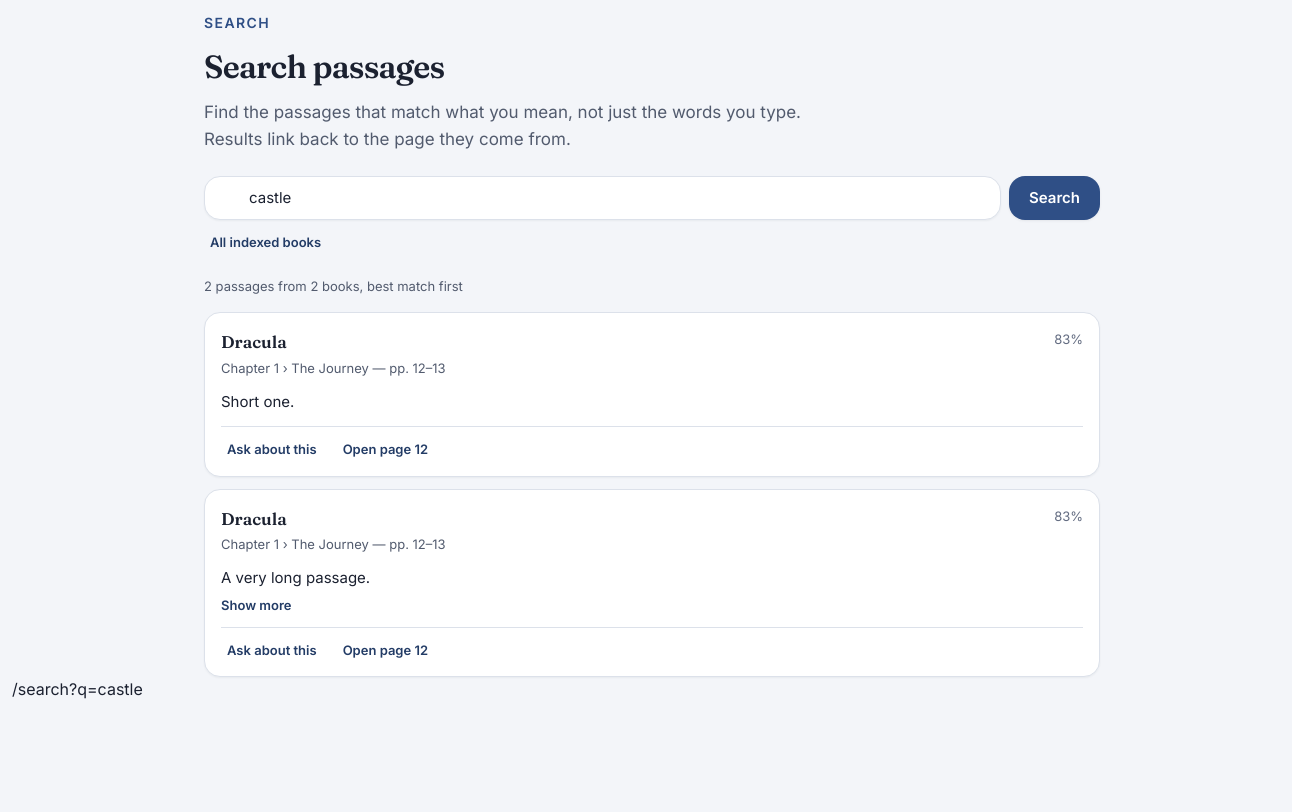
Test: SearchView › offers Show more only when the passage is clamped
Click the button "Show more": (256, 605) [221, 595, 292, 615]
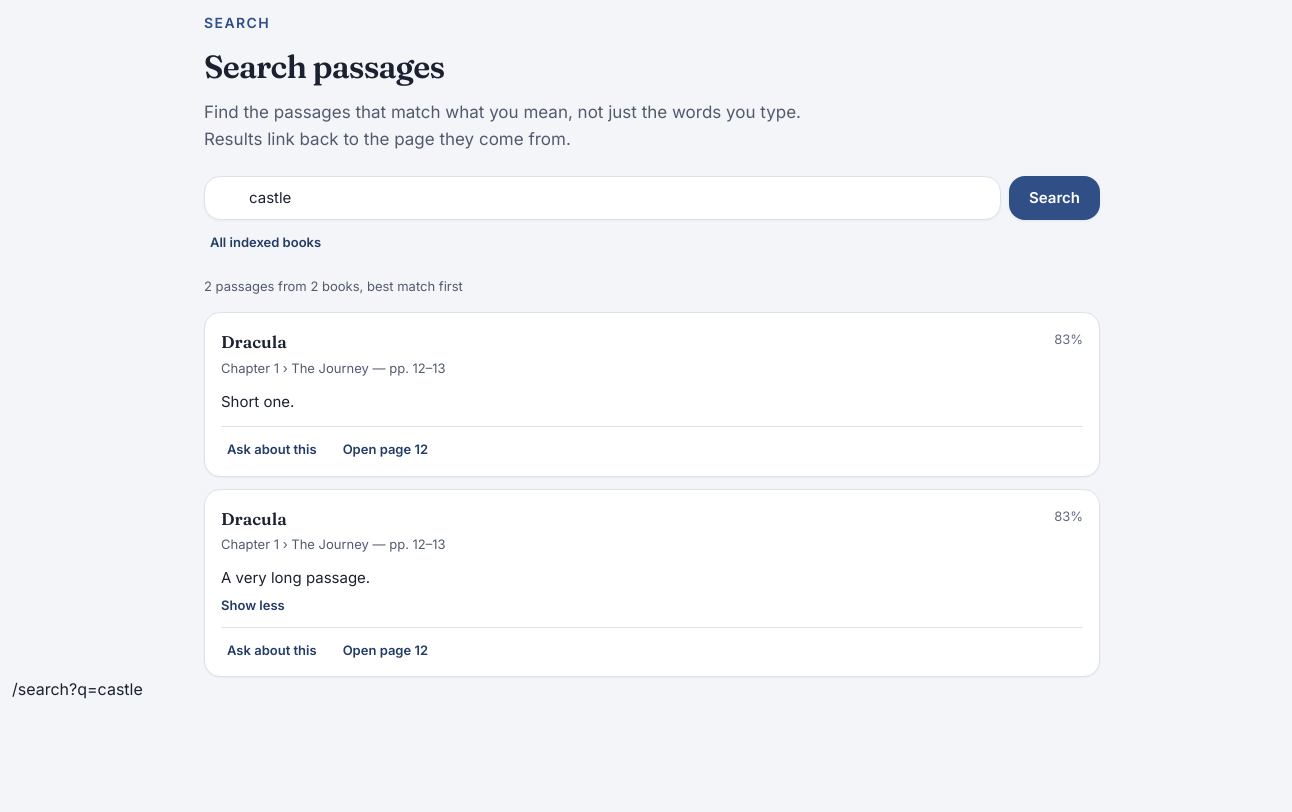
expect the button "Show less" is expanded: met, box [221, 595, 285, 615]
